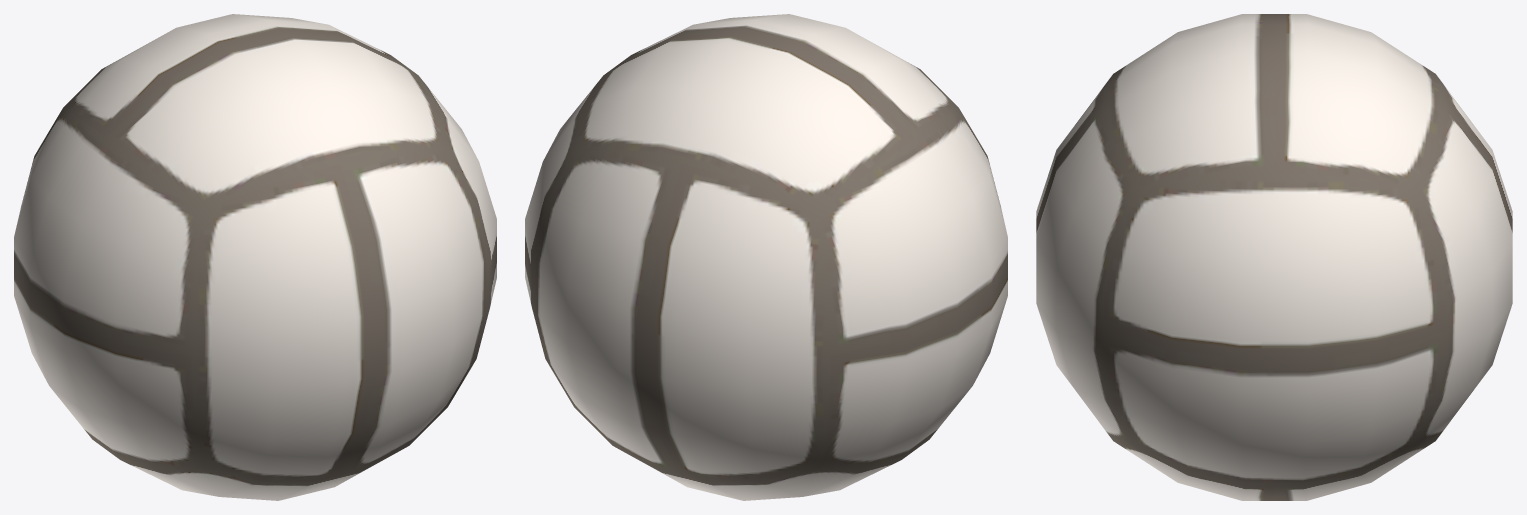
The model's file is voleyBall.glb.
3 renders of one model, left to right at view 1: azimuth 30°, elevation 25°; view 2: azimuth 150°, elevation 25°; view 3: azimuth 270°, elevation 25°, orthographic.
Parts seen in each view (by area): view 1: VoleyballBall_BrawlStars; view 2: VoleyballBall_BrawlStars; view 3: VoleyballBall_BrawlStars.
Boxes of the visible parts, x1,y1,x2,y2 form: VoleyballBall_BrawlStars: (14,14,496,500); VoleyballBall_BrawlStars: (525,14,1007,500); VoleyballBall_BrawlStars: (1036,14,1512,500).
Size of the model in its own units: 11.86 by 11.86 by 11.74.
1 material, 1 textured.
